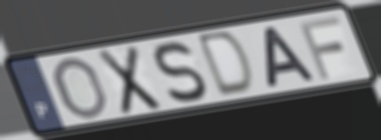A: (261, 25, 319, 91)
D: (196, 29, 258, 100)
F: (295, 14, 345, 82)
O: (52, 55, 112, 122)
S: (153, 39, 211, 105)
X: (94, 43, 165, 118)
